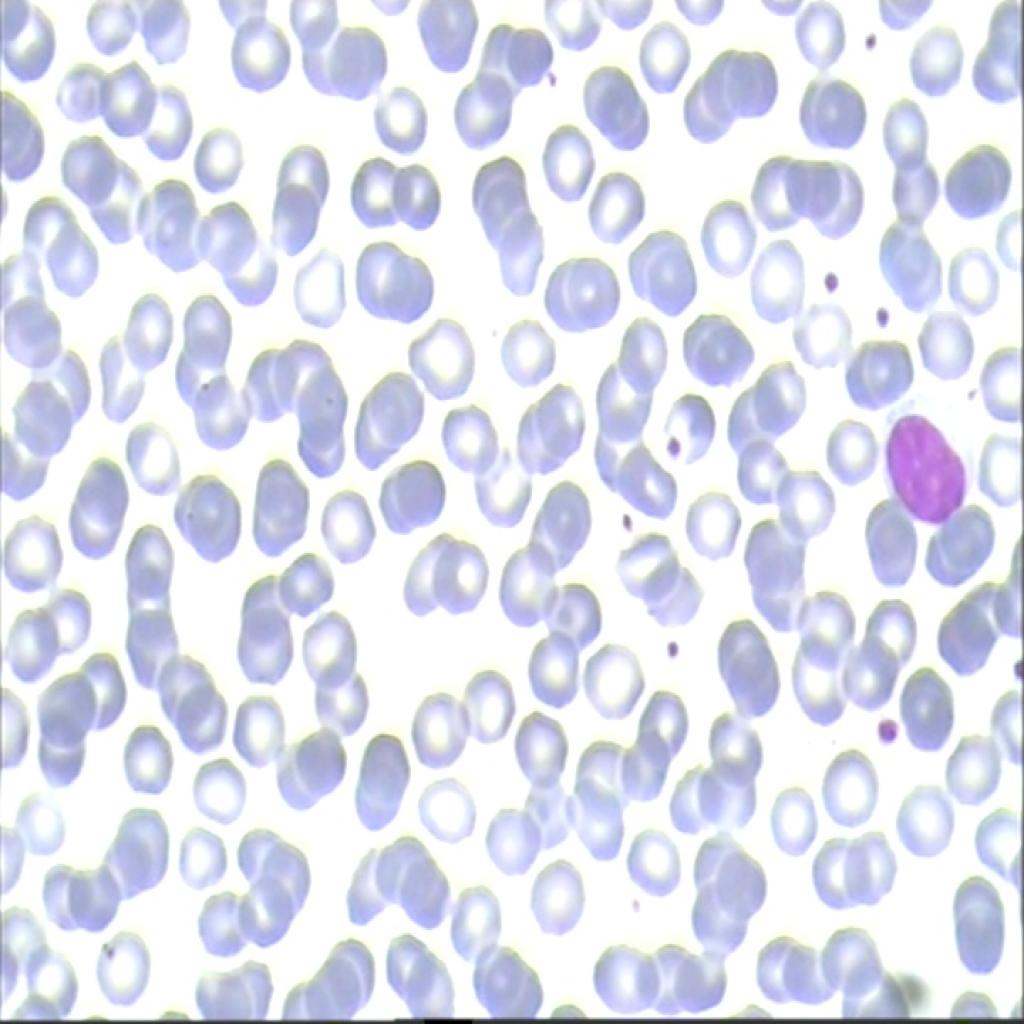Limfosit: (876, 395, 976, 544)
Platelet: (605, 487, 647, 535), (870, 708, 913, 752), (808, 254, 842, 300), (530, 53, 570, 91), (849, 23, 882, 59), (866, 290, 888, 330), (660, 631, 687, 663), (662, 427, 682, 464), (1000, 647, 1022, 679)
